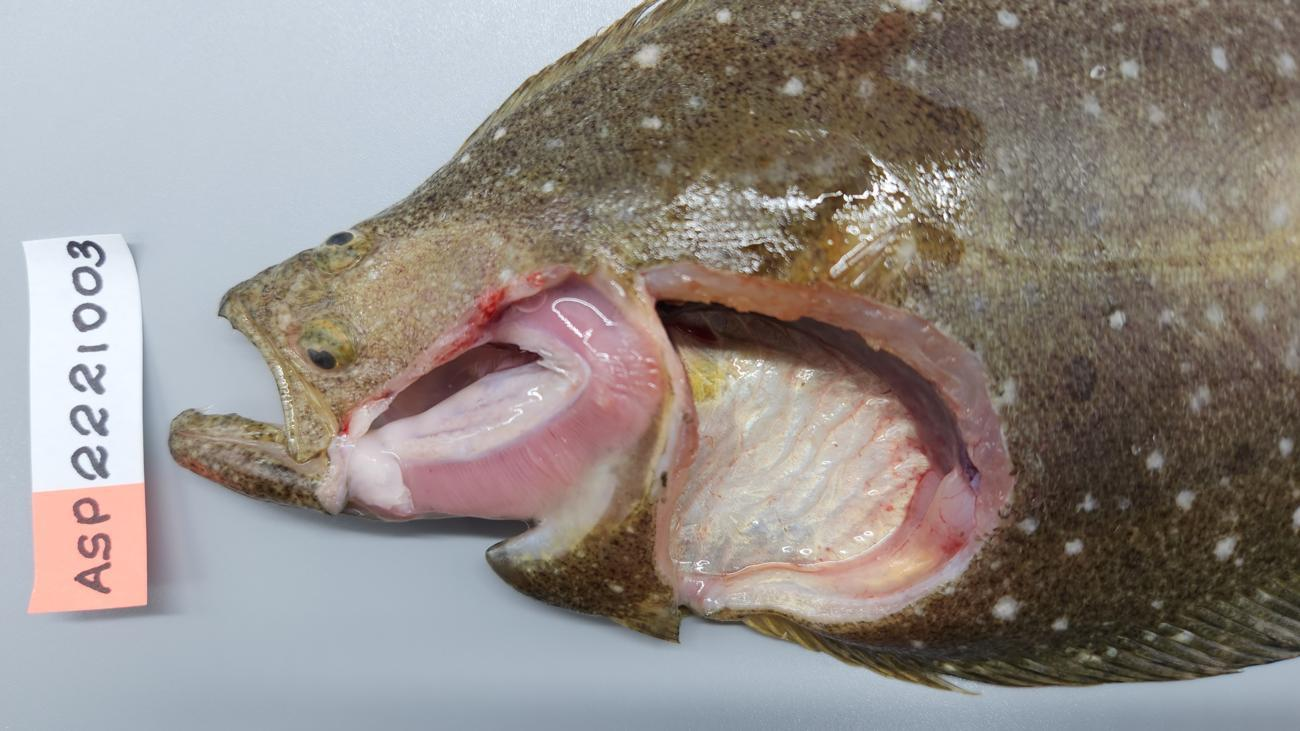SPASQ: (668, 335, 931, 576)
